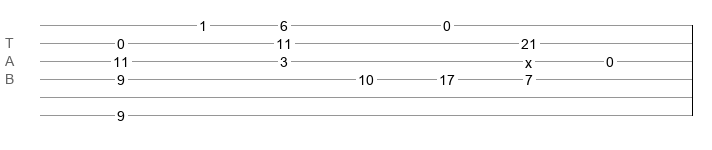0: (117, 36, 125, 46), (443, 18, 451, 28), (606, 54, 614, 64)
1: (199, 18, 207, 28)
10: (358, 72, 374, 82)
11: (113, 54, 129, 64), (276, 36, 292, 46)
17: (439, 72, 455, 82)
21: (521, 36, 537, 46)
3: (280, 54, 288, 64)
6: (280, 18, 288, 28)
7: (525, 72, 533, 82)
9: (117, 108, 125, 118), (117, 72, 125, 82)
x: (525, 55, 532, 63)
